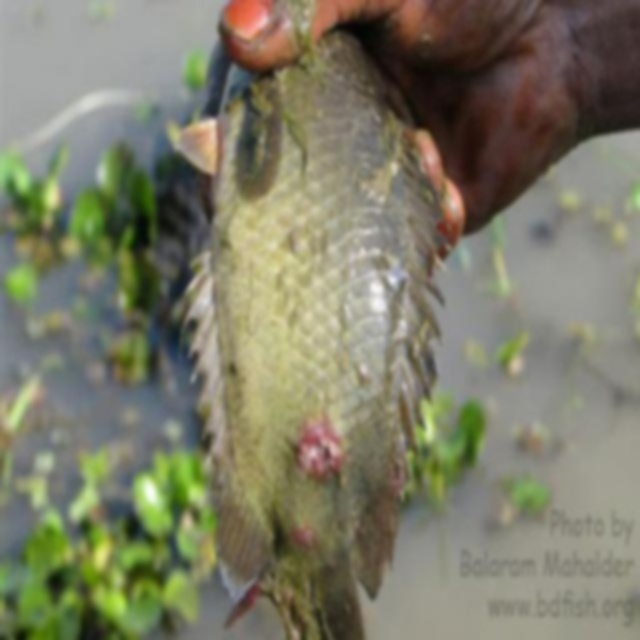EUS Disease: (185, 35, 442, 638), (221, 367, 434, 580)
